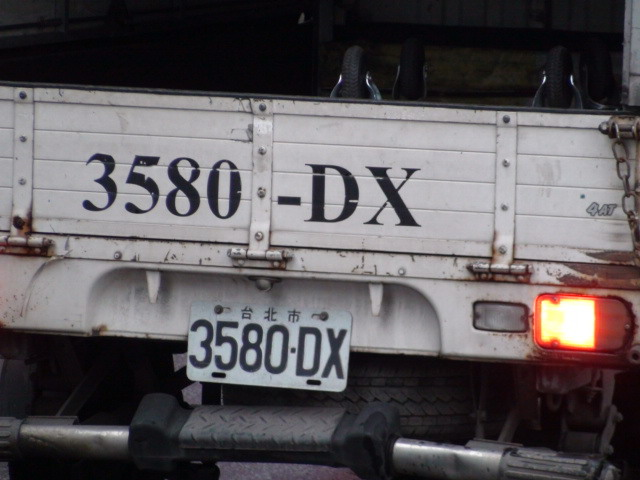plate: (183, 299, 357, 396)
